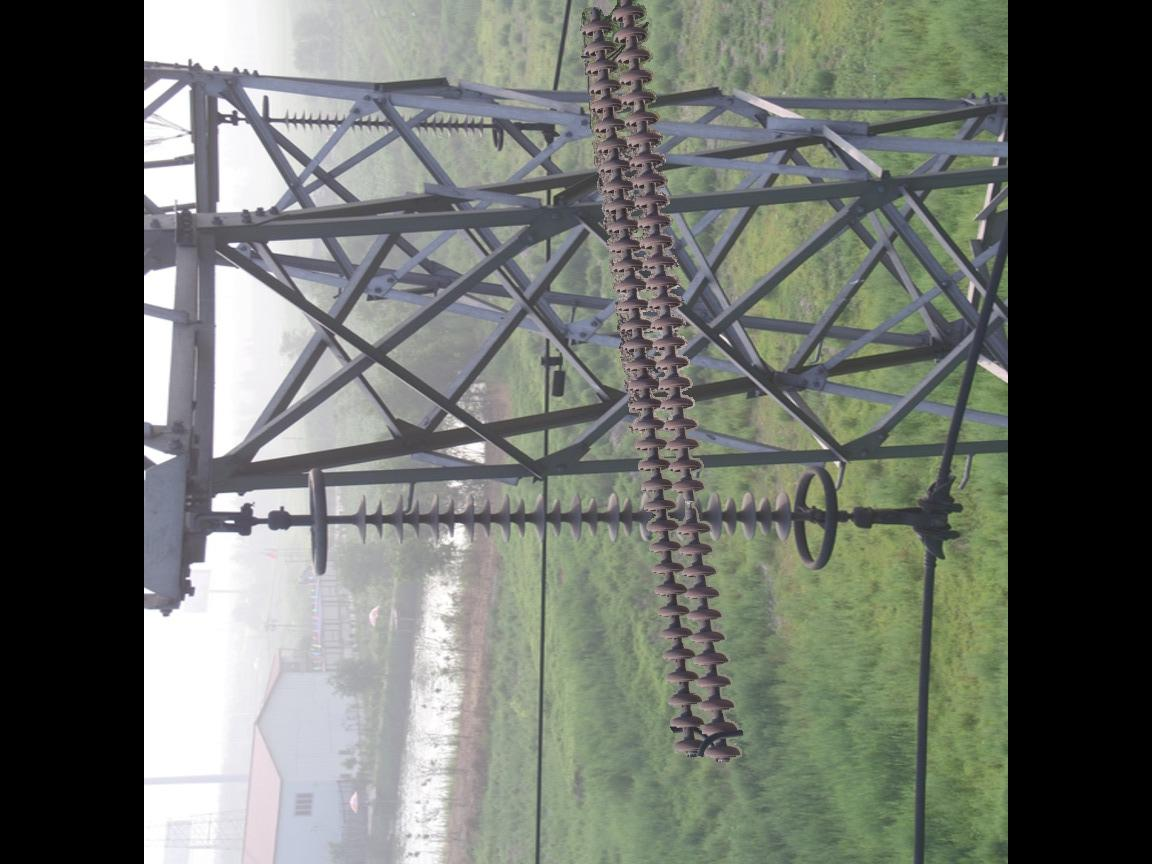insulator: (578, 1, 748, 773), (345, 482, 799, 555), (277, 105, 490, 143)
insulator_stringdrop: (670, 478, 715, 540)
